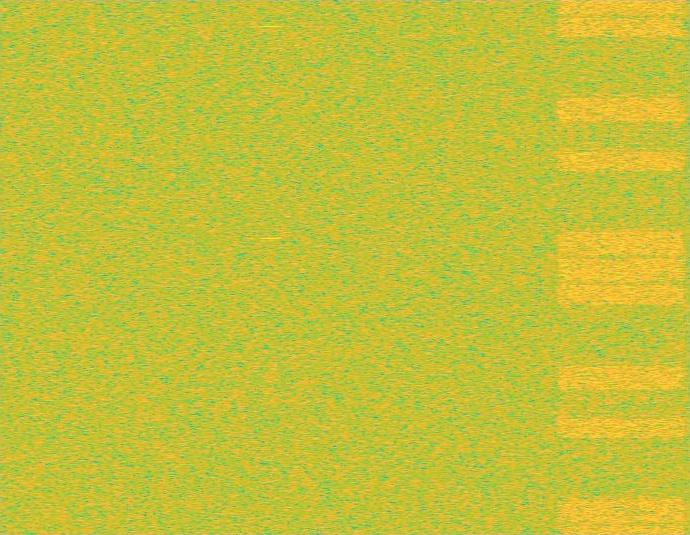LTE: (552, 0, 689, 534)
Radar: (264, 0, 278, 534)
